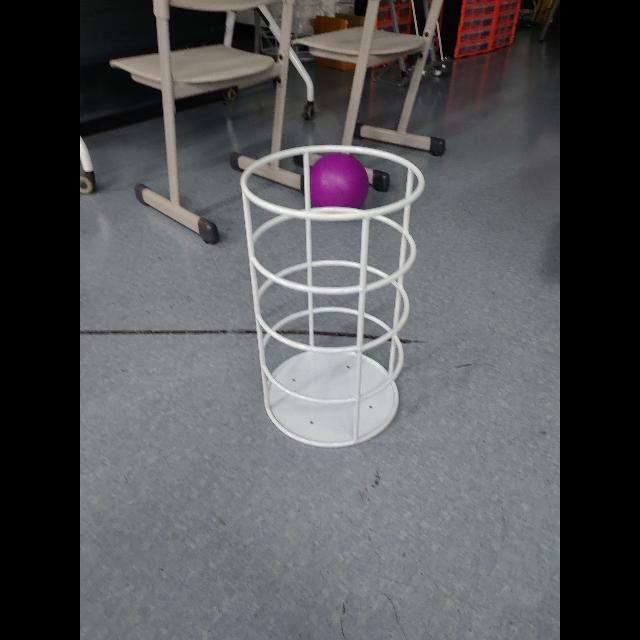S: (237, 144, 428, 454)
